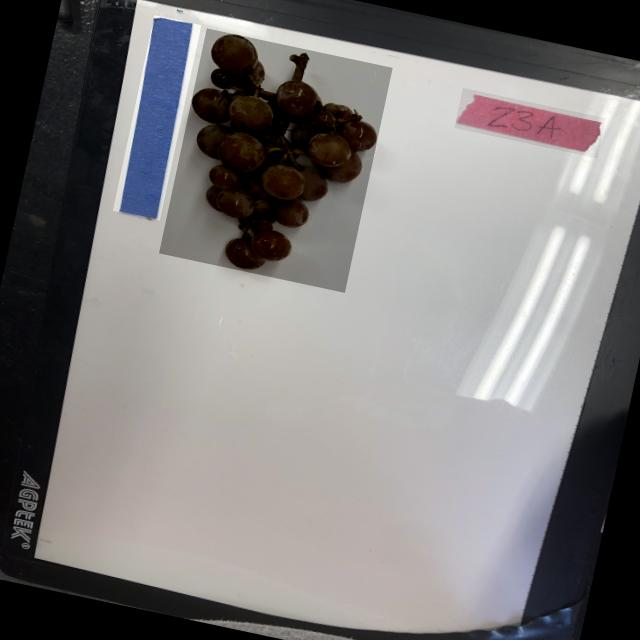grape_cluster: (158, 28, 392, 292)
index: (454, 88, 605, 158)
measure_label: (112, 14, 202, 220)
